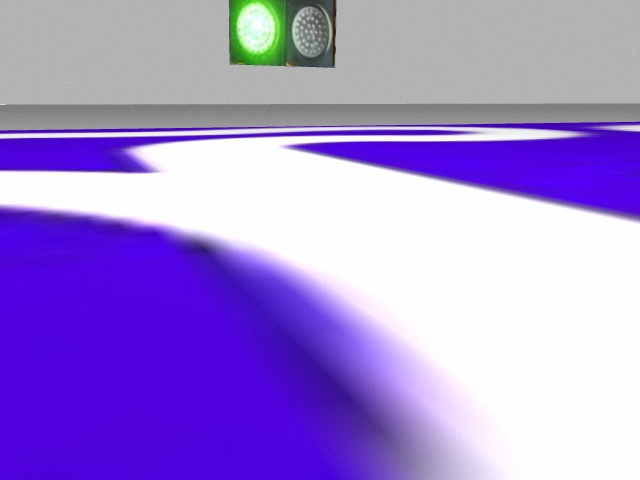green: (228, 2, 286, 64)
